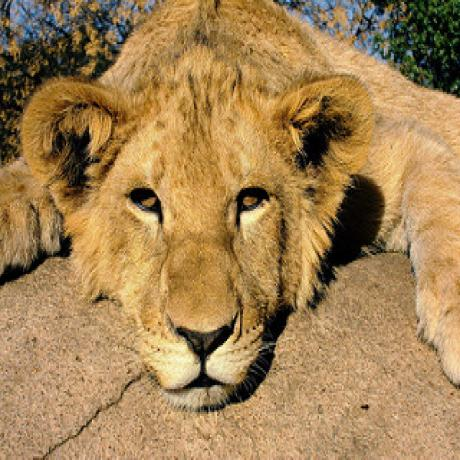Lion: (0, 0, 460, 408)
